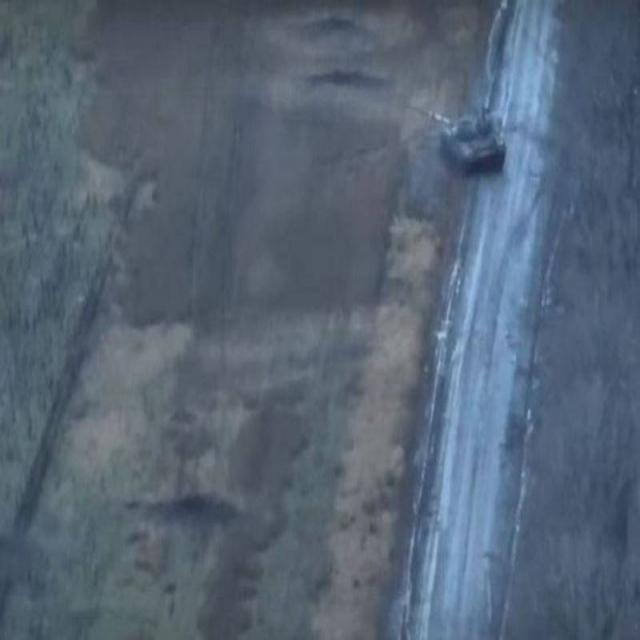tank: (440, 113, 508, 178)
